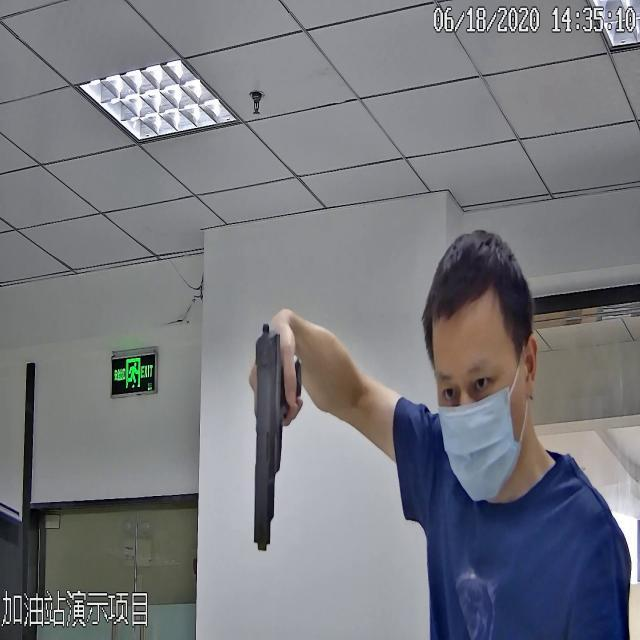gun-knife-thesis - v11 Yolov5 augmented: (249, 311, 308, 555)
